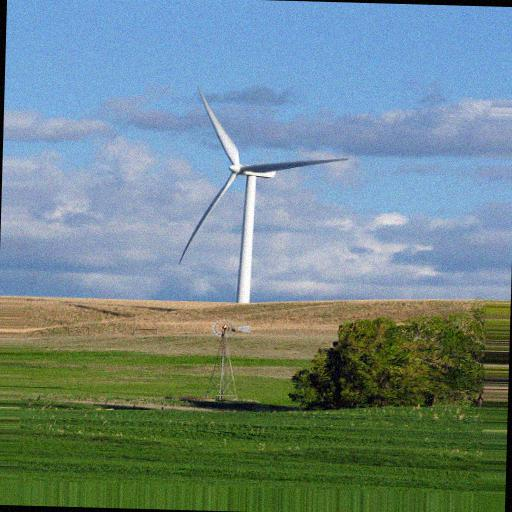wind turbine: (178, 86, 352, 296)
